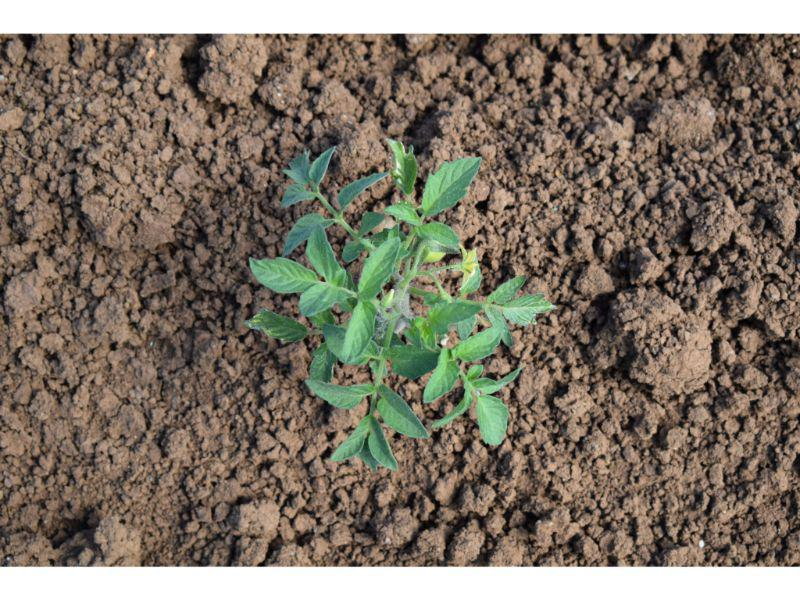tomato: (247, 134, 555, 471)
